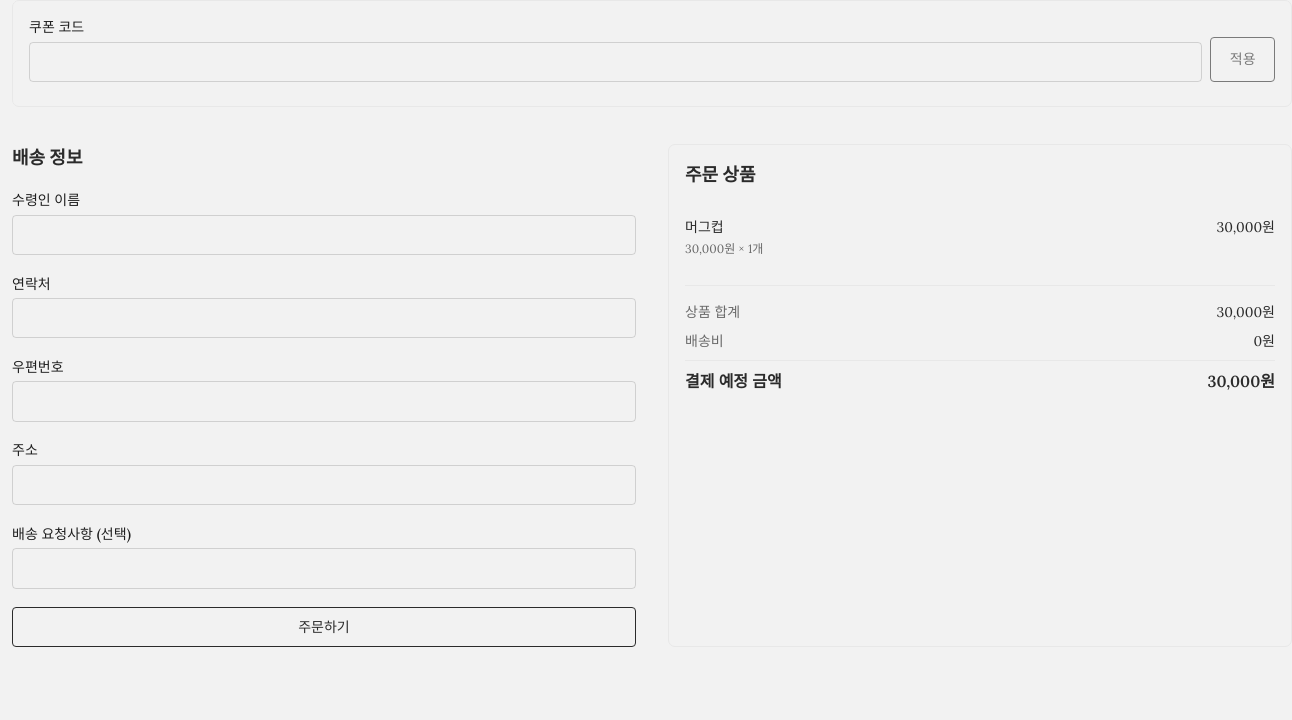
Test case: SPEC-DISCOUNT-001 M6b — AC-DISCOUNT-023 (screen structure) › shows a discount row once a coupon is successfully applied
Type "SAVE5000" into the field labelled "쿠폰 코드".
click(616, 62); type("SAVE5000")  # box [29,42,1202,82]
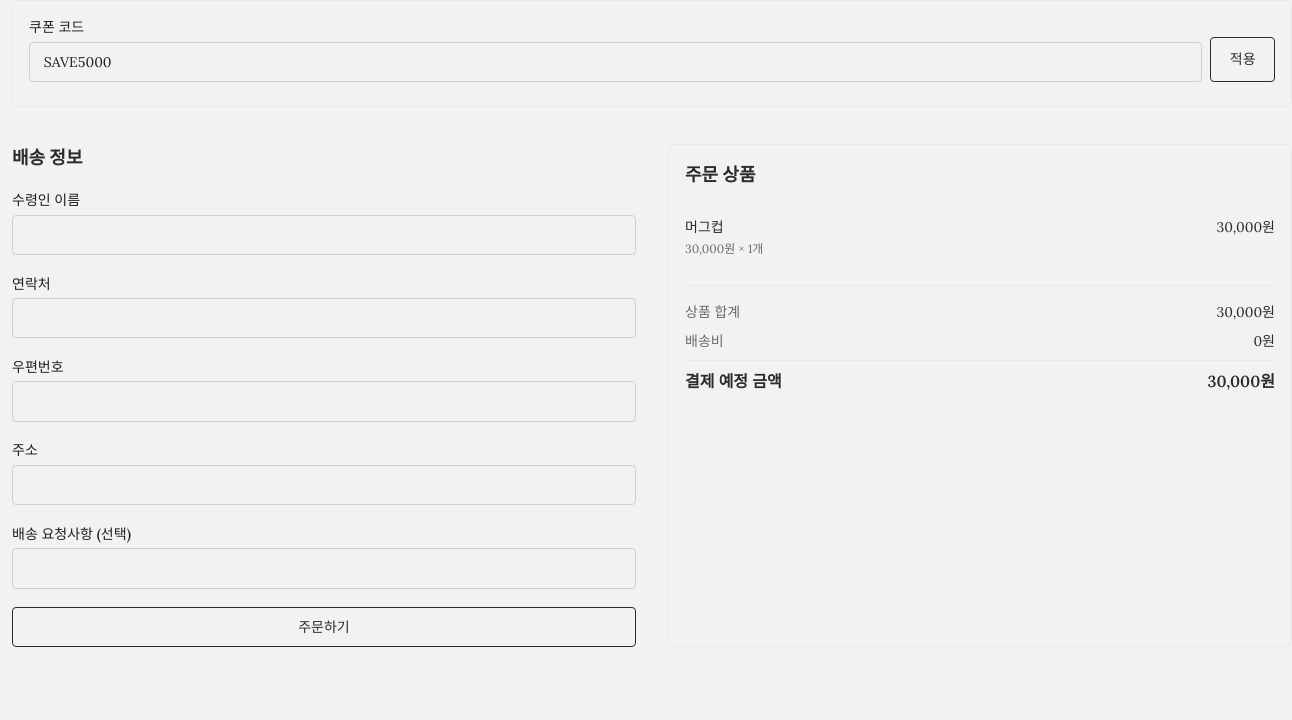
Click the button "적용".
click(1243, 60)  # box [1210,37,1275,82]
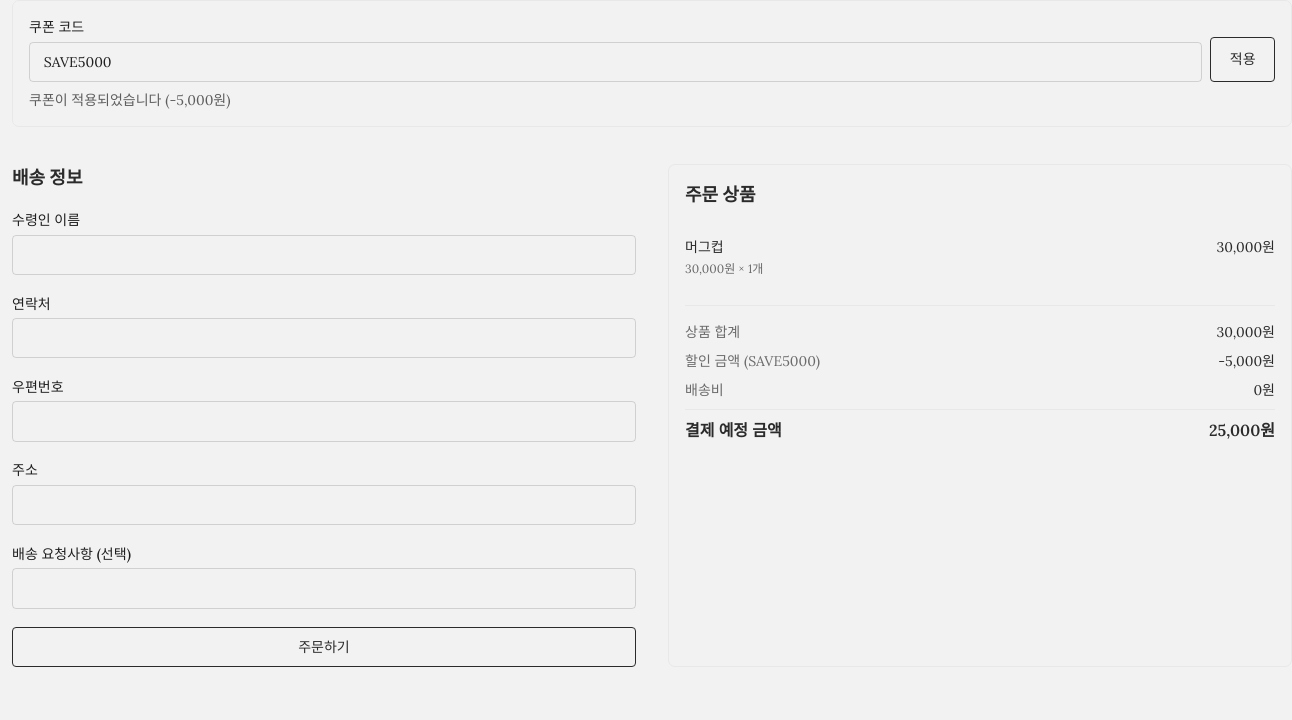
Now the text "할인" is shown, box [685,352,740,370]
Now the text "5,000" is shown, box [29,91,230,109]
